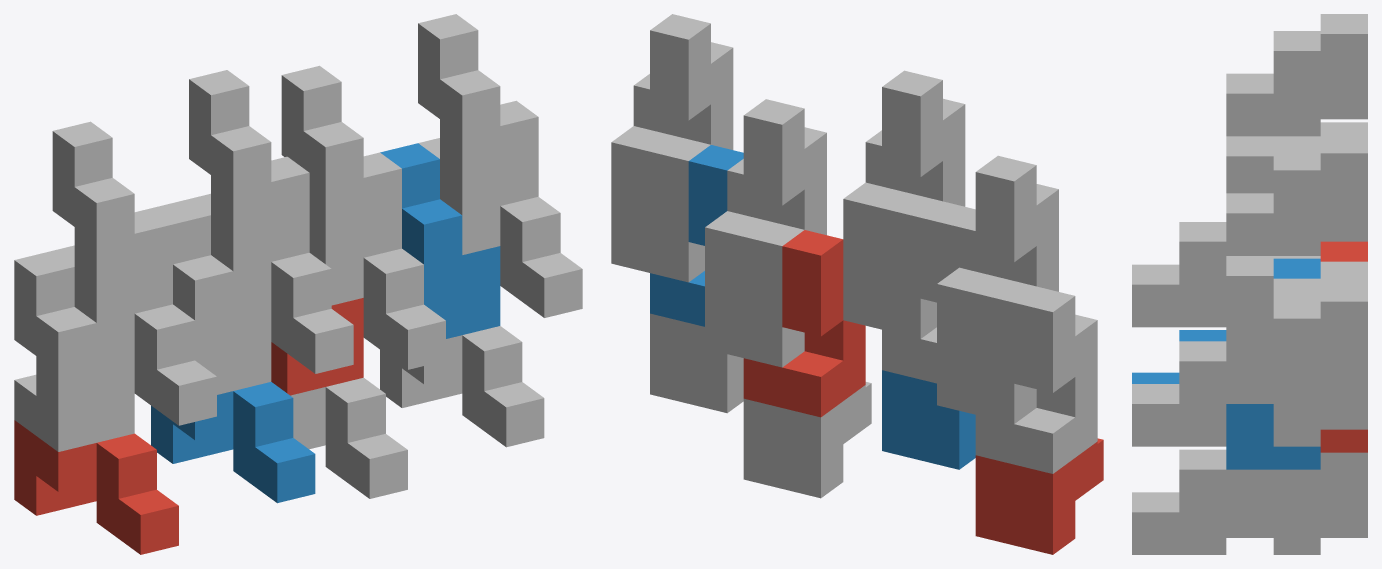
File: tiling.obj
3 renders of one model, left to right at view 1: azimuth 30°, elevation 25°; view 2: azimuth 150°, elevation 25°; view 3: azimuth 270°, elevation 25°, orthographic. The views are drawn at different scales.
Visible parts, largest first — view 1: copy_2_domain_1, copy_2_domain_4, copy_2_domain_3, copy_2_domain_8, copy_2_domain_7, copy_1_domain_1, copy_2_domain_2, copy_2_domain_6, copy_1_domain_6, copy_1_domain_2, copy_1_domain_5, copy_1_domain_3 (+4 smaller); view 2: copy_2_domain_4, copy_2_domain_8, copy_2_domain_3, copy_2_domain_7, copy_2_domain_1, copy_2_domain_5, copy_1_domain_1, copy_1_domain_5, copy_1_domain_7, copy_1_domain_3, copy_1_domain_4, copy_1_domain_8 (+4 smaller); view 3: copy_2_domain_8, copy_1_domain_6, copy_1_domain_8, copy_2_domain_4, copy_2_domain_7, copy_1_domain_4, copy_1_domain_5, copy_2_domain_6, copy_2_domain_3, copy_1_domain_7, copy_2_domain_5, copy_1_domain_2 (+2 smaller).
Boxes of the visible parts, x1,y1,x2,y2 form: copy_2_domain_1: [14, 251, 134, 451]; copy_2_domain_4: [189, 70, 309, 271]; copy_2_domain_3: [52, 121, 172, 322]; copy_2_domain_8: [418, 14, 538, 215]; copy_2_domain_7: [281, 65, 401, 266]; copy_1_domain_1: [14, 420, 178, 554]; copy_2_domain_2: [151, 199, 271, 394]; copy_2_domain_6: [380, 143, 500, 338]; copy_1_domain_6: [380, 326, 544, 447]; copy_1_domain_2: [151, 382, 315, 503]; copy_1_domain_5: [290, 377, 407, 498]; copy_1_domain_3: [96, 304, 216, 425]; copy_2_domain_4: [843, 70, 965, 257]; copy_2_domain_8: [611, 14, 733, 201]; copy_2_domain_3: [937, 155, 1058, 342]; copy_2_domain_7: [705, 99, 826, 286]; copy_2_domain_1: [975, 286, 1097, 473]; copy_2_domain_5: [743, 230, 865, 417]; copy_1_domain_1: [975, 438, 1103, 554]; copy_1_domain_5: [743, 382, 871, 498]; copy_1_domain_7: [705, 268, 804, 367]; copy_1_domain_3: [937, 324, 1036, 423]; copy_1_domain_4: [843, 239, 936, 338]; copy_1_domain_8: [611, 183, 704, 282]; copy_2_domain_8: [1226, 150, 1320, 361]; copy_1_domain_6: [1132, 449, 1320, 554]; copy_1_domain_8: [1132, 341, 1320, 446]; copy_2_domain_4: [1226, 31, 1320, 193]; copy_2_domain_7: [1273, 133, 1367, 344]; copy_1_domain_4: [1132, 222, 1226, 327]; copy_1_domain_5: [1226, 452, 1367, 537]; copy_2_domain_6: [1226, 258, 1320, 469]; copy_2_domain_3: [1273, 14, 1367, 139]; copy_1_domain_7: [1320, 344, 1367, 429]; copy_2_domain_5: [1320, 241, 1367, 452]; copy_1_domain_2: [1132, 330, 1226, 383].
Size of the model in its own units: 12 by 10 by 5.
